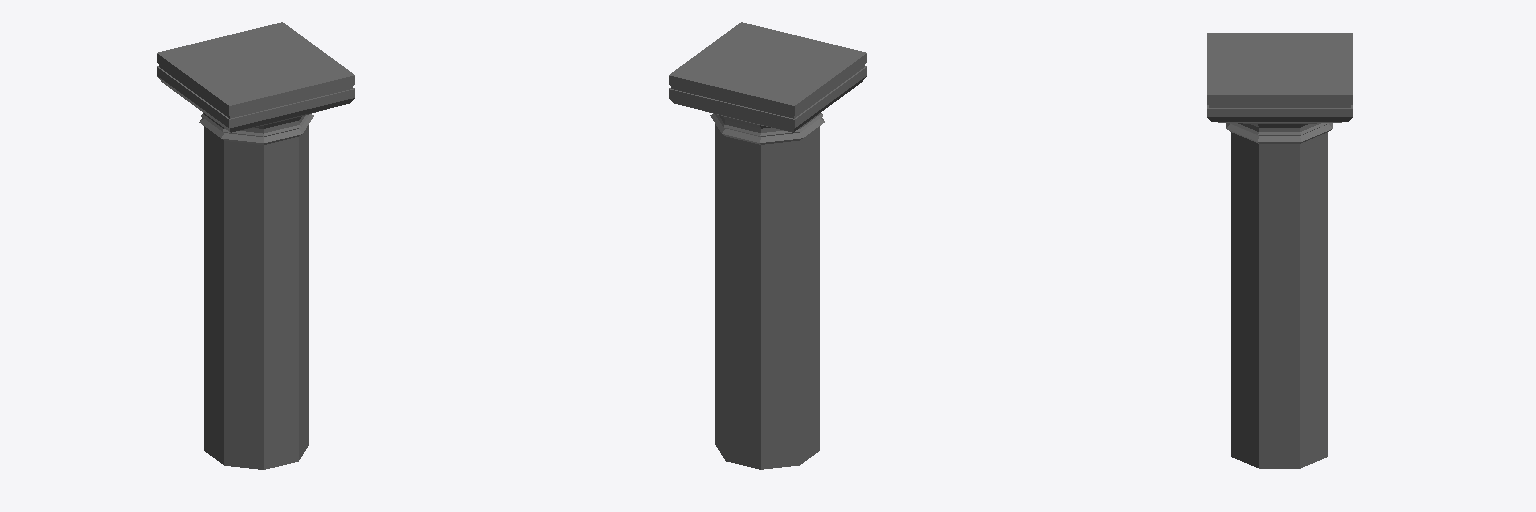
Rendered from pillar.obj.
3 views of the same model, side by side, from view 1: azimuth 30°, elevation 25°; view 2: azimuth 150°, elevation 25°; view 3: azimuth 270°, elevation 25° (orthographic).
Parts seen in each view (by area): view 1: sponza_10_sponza_10_column_a; view 2: sponza_10_sponza_10_column_a; view 3: sponza_10_sponza_10_column_a.
Part boxes in pixels (left/top/right/bottom): sponza_10_sponza_10_column_a: left=157, top=22, right=354, bottom=469; sponza_10_sponza_10_column_a: left=669, top=22, right=866, bottom=469; sponza_10_sponza_10_column_a: left=1207, top=33, right=1352, bottom=468.
Size of the model in its own units: 2.31 by 6.7 by 2.3.